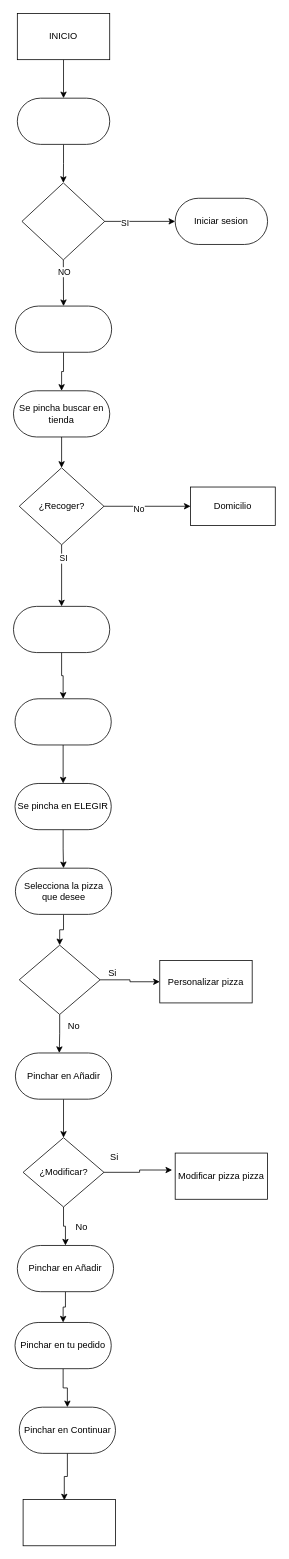
Image size: 289x1559. Some labels were removed from this diagram. Here are the shapes that lost their labels. From the top down, the box of each, then its label:
(17, 97, 110, 144): Se pincha en iniciar pedido
(21, 182, 105, 260): ¿Estas registrado?
(15, 305, 112, 352): Rellena tu pedido sin registrarte la dirección de tu domicilio
(13, 606, 110, 653): Seleccionar el tipo de pizzas que quieras
(14, 698, 111, 745): Se pincha en QUIERO
(18, 944, 100, 1014): ¿Personalizar?
(22, 1499, 116, 1546): FIN
